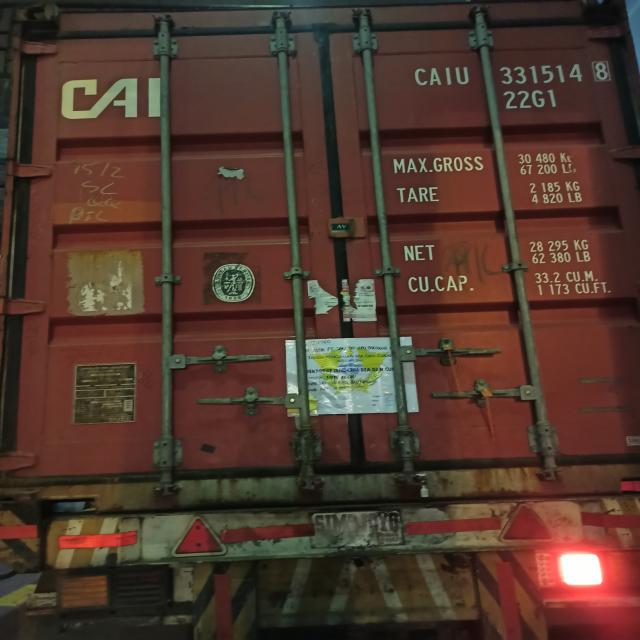seal: (474, 382, 497, 437), (442, 342, 460, 382), (418, 469, 430, 498)
